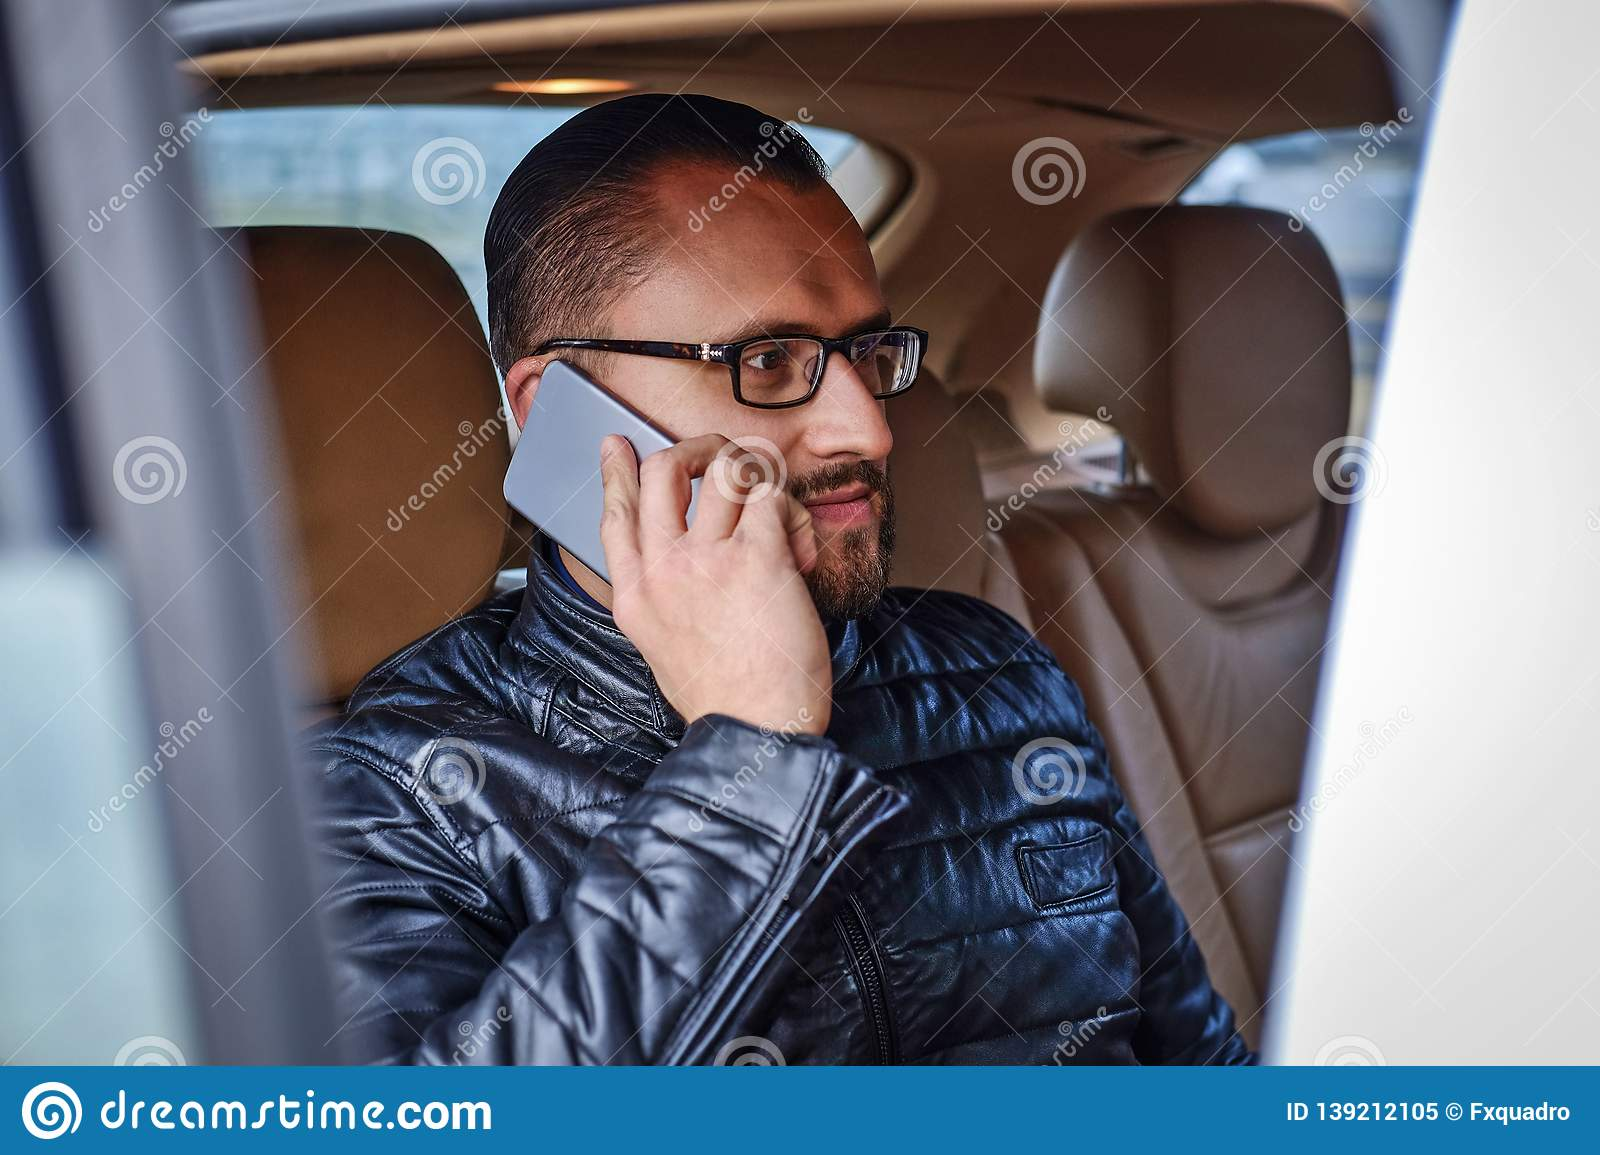phone: (499, 356, 753, 604)
talk: (499, 293, 904, 759)
